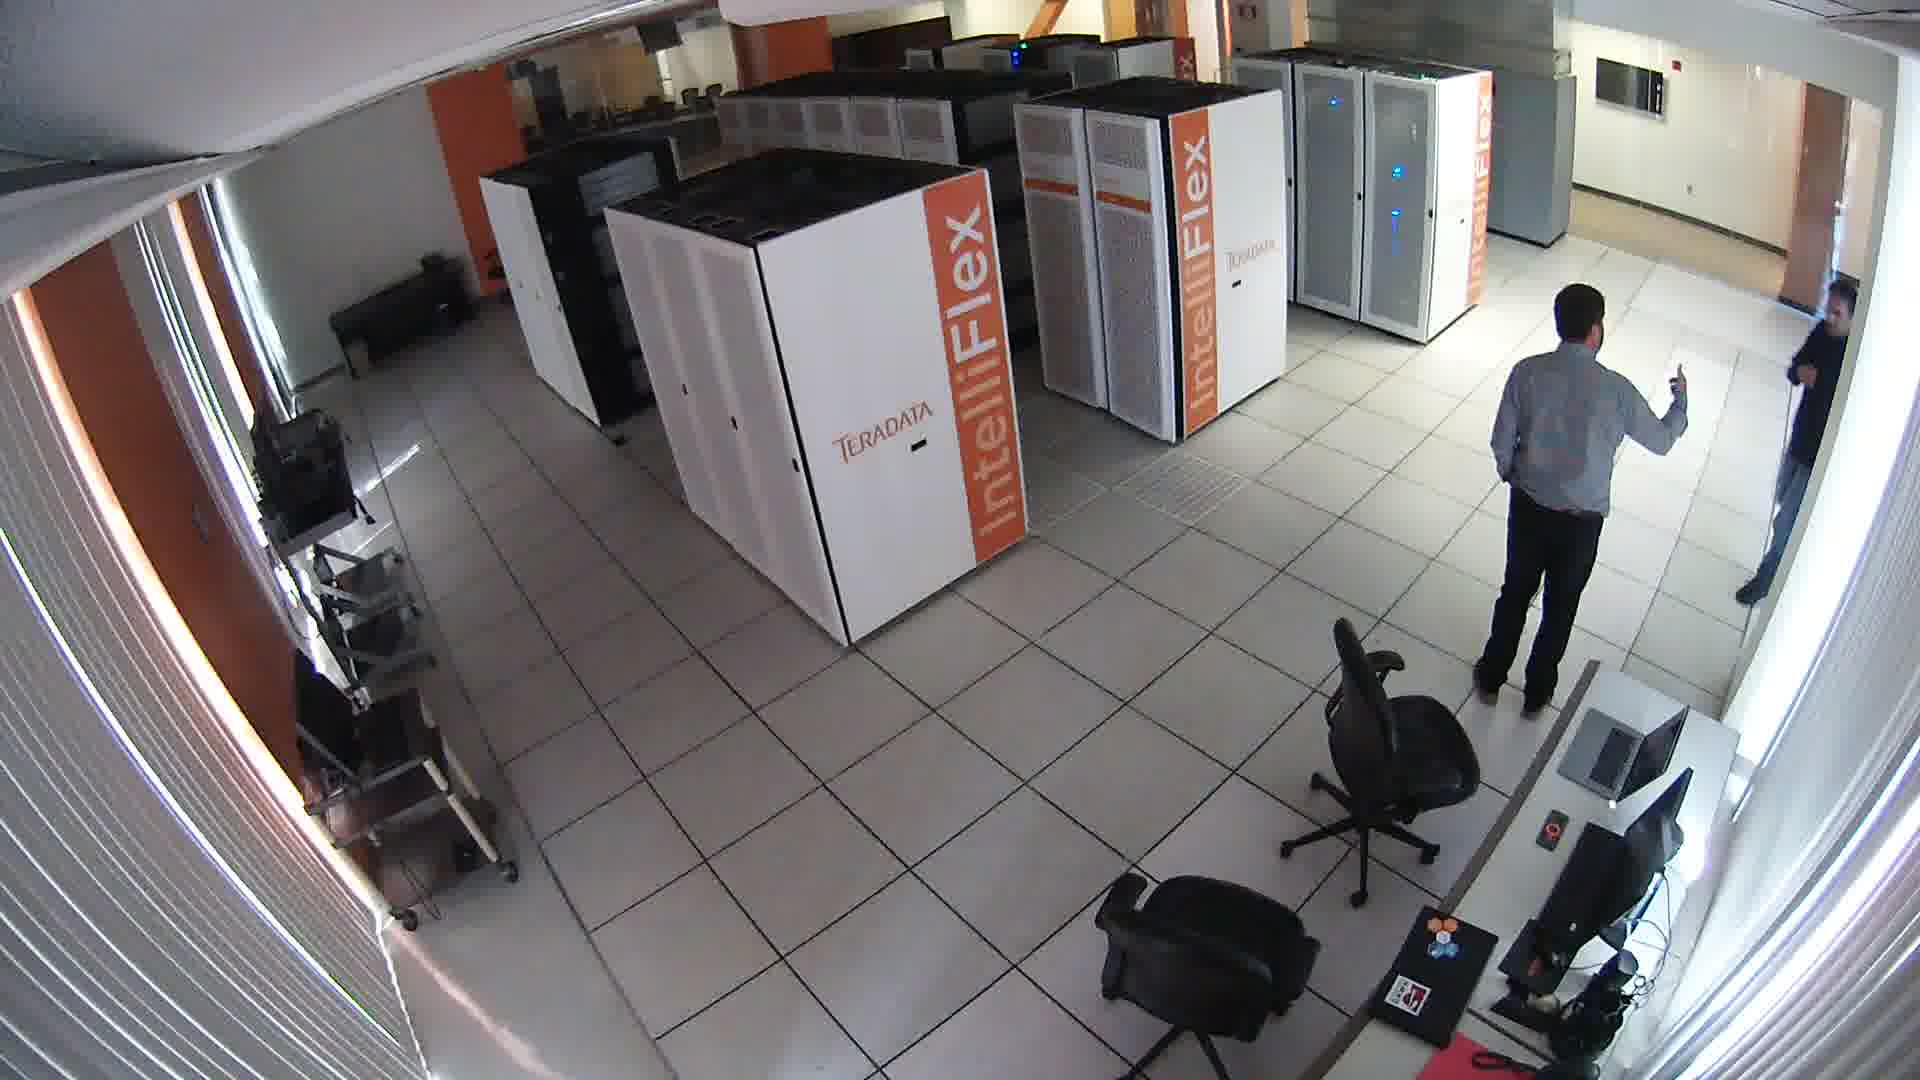person: (1439, 276, 1686, 715), (1735, 262, 1856, 643)
